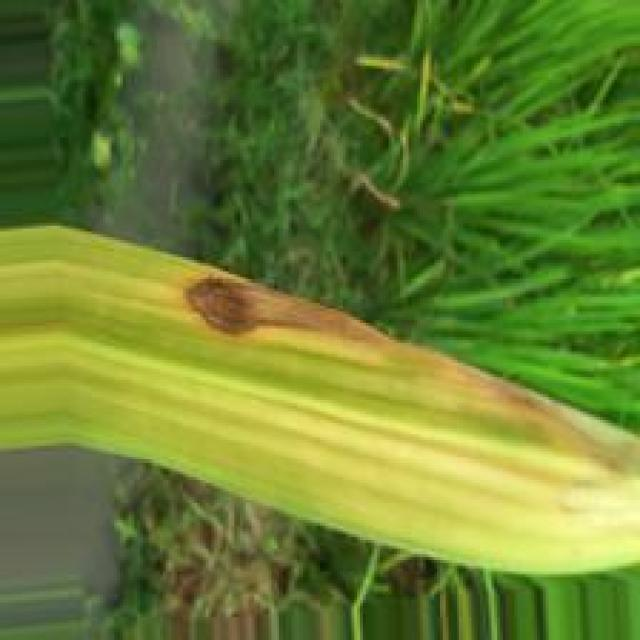Rice False Smut: (173, 272, 635, 482)
